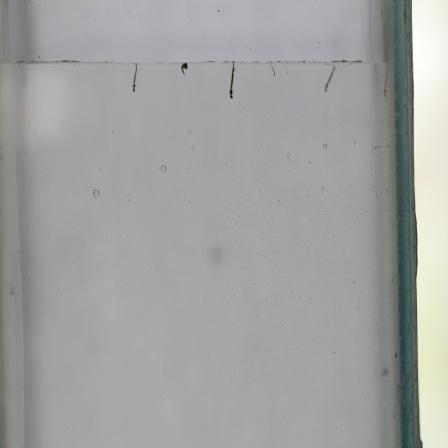Jentik-Nyamuk: (227, 58, 238, 102), (322, 63, 337, 95), (127, 61, 139, 93), (179, 61, 190, 77)
